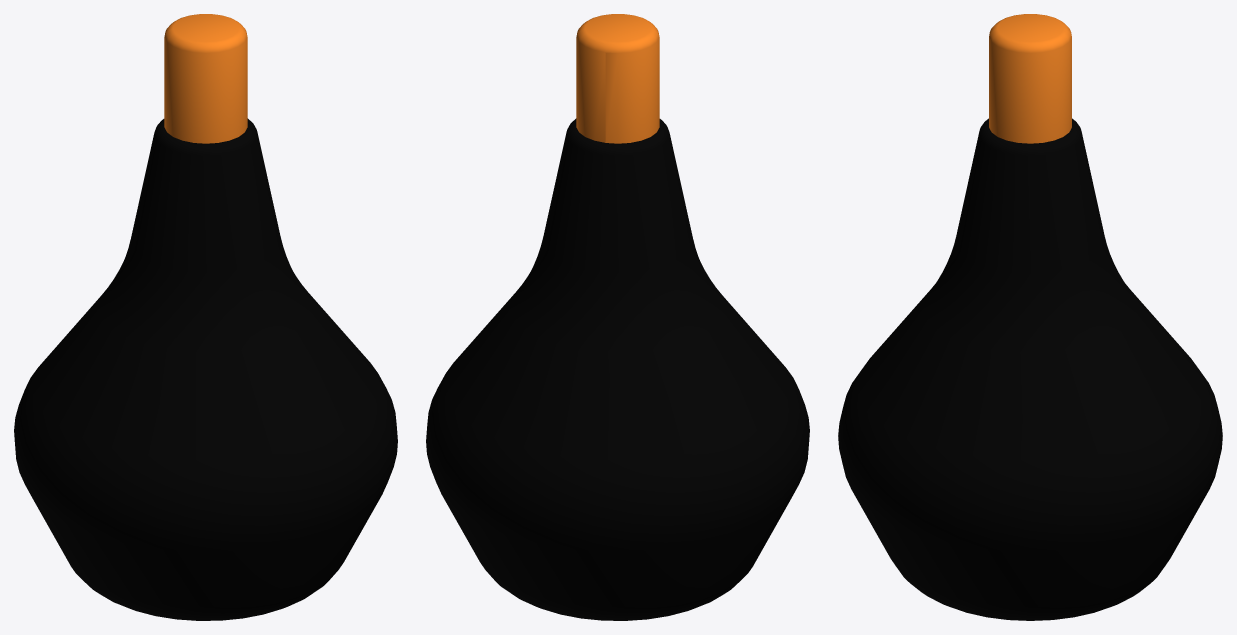
The model's file is bottle.FBX.
3 views of the same model, side by side, from view 1: azimuth 30°, elevation 25°; view 2: azimuth 150°, elevation 25°; view 3: azimuth 270°, elevation 25° (orthographic).
Visible parts, largest first — view 1: perfume_o1; view 2: perfume_o1; view 3: perfume_o1.
Part boxes in pixels (x1,y1,x2,y2): perfume_o1: [14, 14, 397, 620]; perfume_o1: [426, 14, 809, 620]; perfume_o1: [838, 14, 1222, 620].
Bounding box in the file's own units: 59.51 × 94.03 × 59.51.
